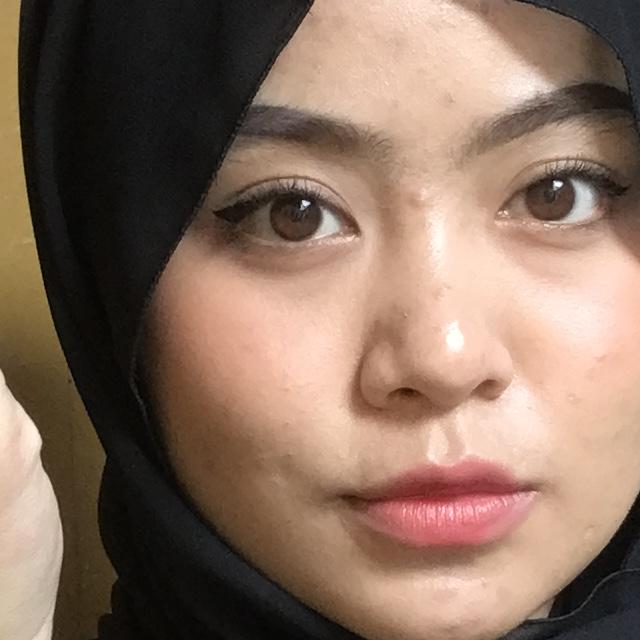kapan: (0, 0, 325, 640)
